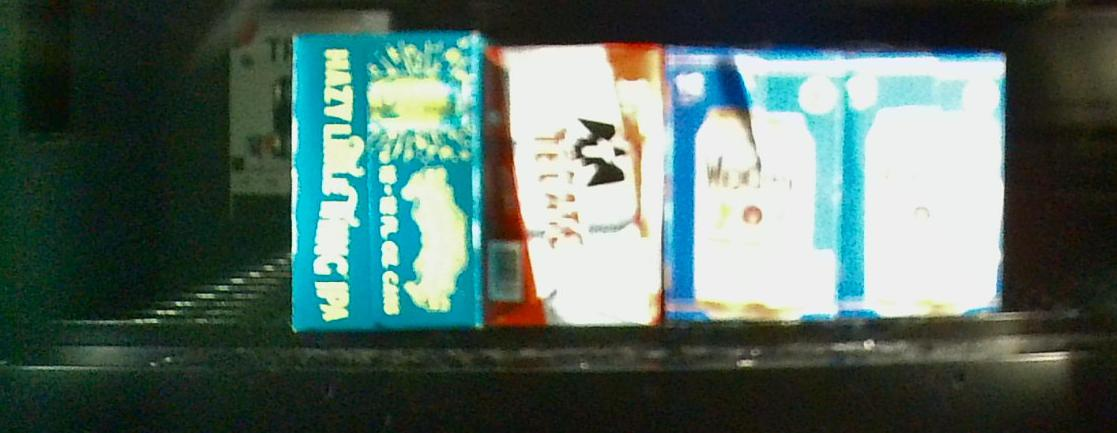bottle: (290, 30, 482, 334), (485, 42, 663, 326), (664, 41, 839, 326), (845, 48, 1002, 318)
